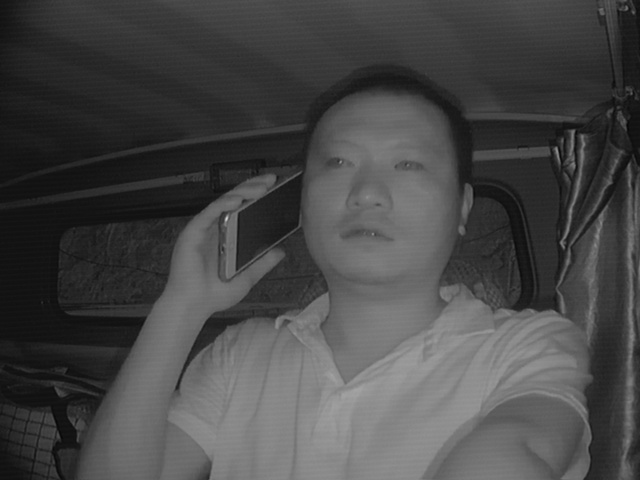hand: (171, 174, 289, 309)
